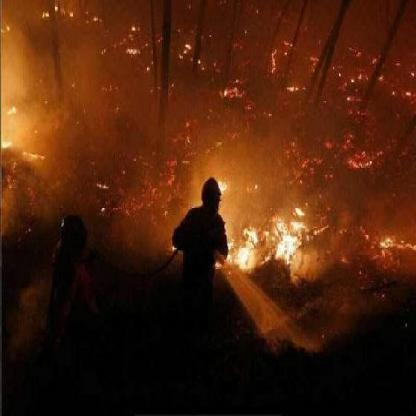fire: (7, 17, 408, 272)
